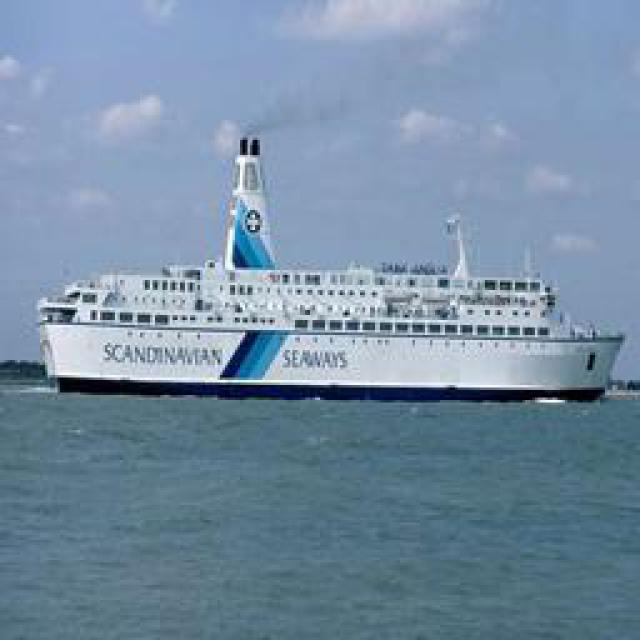Ship: (27, 134, 630, 397)
